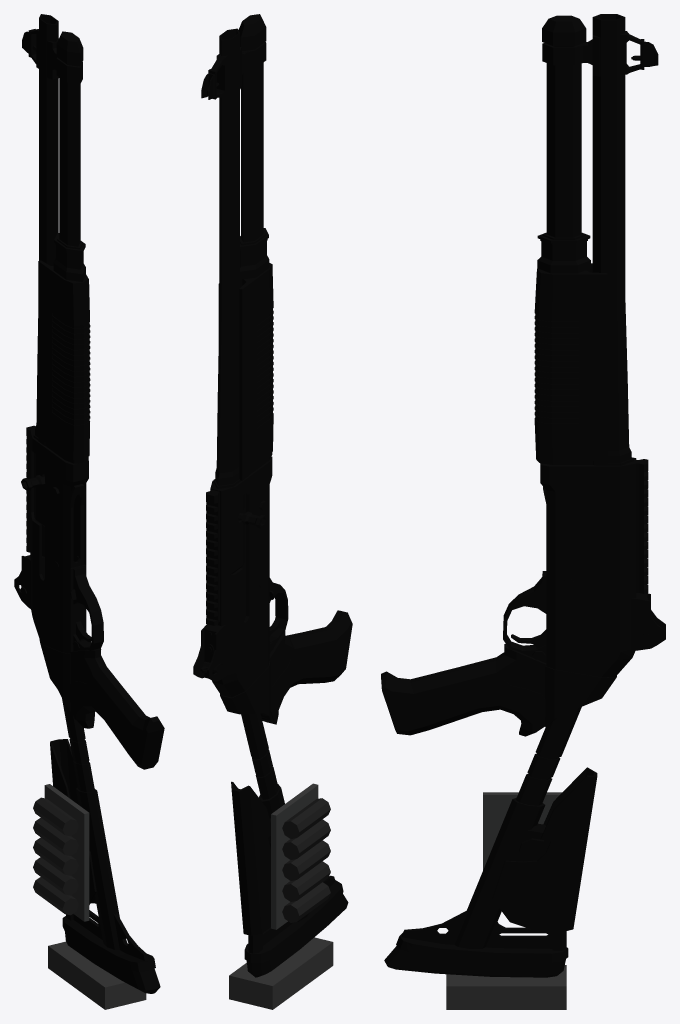
The model's file is BenelliM4__RecoilPad_Rubber__ShellHolder_Butt.fbx.
3 views of the same model, side by side, from view 1: azimuth 30°, elevation 25°; view 2: azimuth 150°, elevation 25°; view 3: azimuth 270°, elevation 25° (orthographic). The views are drawn at different scales.
Visible parts, largest first — view 1: asset_BenelliM4.001; view 2: asset_BenelliM4.001; view 3: asset_BenelliM4.001.
Boxes of the visible parts, bbox=[...] form: asset_BenelliM4.001: bbox=[14, 14, 164, 1009]; asset_BenelliM4.001: bbox=[193, 14, 352, 1009]; asset_BenelliM4.001: bbox=[381, 14, 665, 1009].
Bounding box in the file's own units: 0.0429 × 0.621 × 0.1633.
